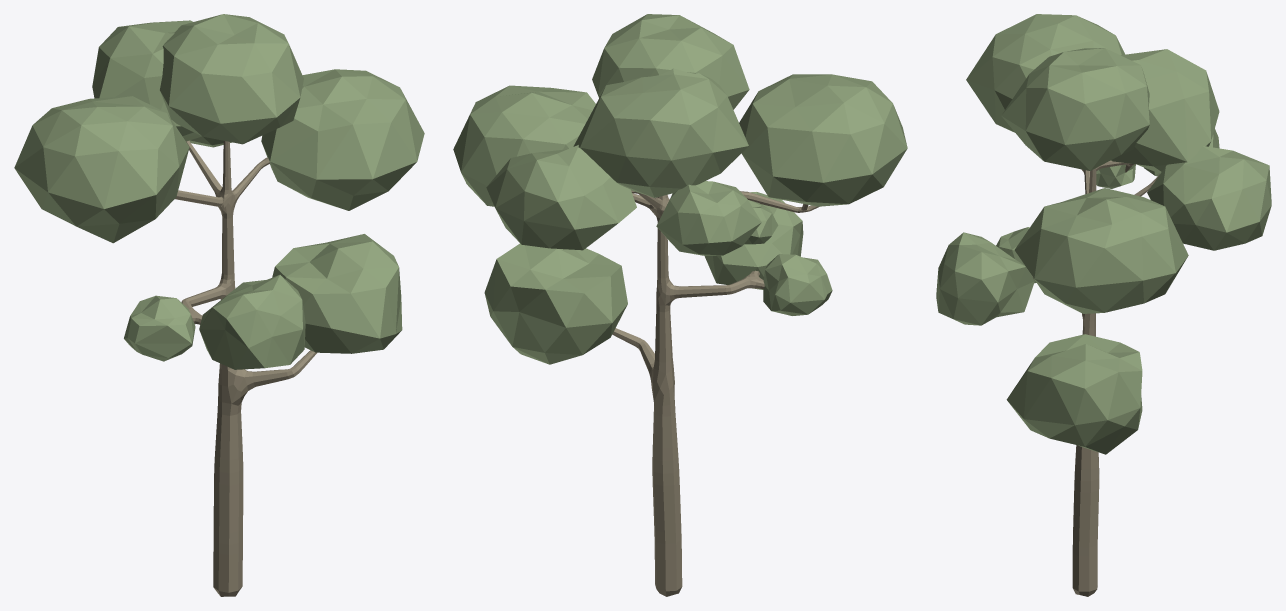
Rendered from Beech1.fbx.
3 renders of one model, left to right at view 1: azimuth 30°, elevation 25°; view 2: azimuth 150°, elevation 25°; view 3: azimuth 270°, elevation 25°, orthographic. The views are drawn at different scales.
Visible parts, largest first — view 1: Icosphere.004, Icosphere.003, Icosphere.002, Icosphere.007, Cube, Icosphere.008, Icosphere.001, Icosphere.009; view 2: Icosphere.004, Icosphere.001, Icosphere.007, Icosphere, Cube, Icosphere.003, Icosphere.002, Icosphere.005, Icosphere.009, Icosphere.008, Icosphere.006; view 3: Icosphere.003, Icosphere.002, Icosphere.007, Icosphere, Icosphere.001, Icosphere.004, Icosphere.008, Cube, Icosphere.006, Icosphere.009.
Part boxes in pixels (left/top/right/bottom): Icosphere.004: left=14, top=96, right=189, bottom=243; Icosphere.003: left=261, top=69, right=424, bottom=210; Icosphere.002: left=160, top=14, right=303, bottom=144; Icosphere.007: left=272, top=234, right=402, bottom=353; Cube: left=175, top=140, right=316, bottom=596; Icosphere.008: left=199, top=275, right=305, bottom=369; Icosphere.001: left=92, top=20, right=201, bottom=141; Icosphere.009: left=124, top=295, right=195, bottom=361; Icosphere.004: left=739, top=74, right=907, bottom=206; Icosphere.001: left=573, top=68, right=748, bottom=197; Icosphere.007: left=484, top=243, right=627, bottom=364; Icosphere: left=486, top=145, right=636, bottom=250; Cube: left=612, top=190, right=819, bottom=596; Icosphere.003: left=453, top=85, right=595, bottom=206; Icosphere.002: left=592, top=14, right=749, bottom=109; Icosphere.005: left=656, top=181, right=761, bottom=255; Icosphere.009: left=763, top=254, right=832, bottom=315; Icosphere.008: left=704, top=192, right=803, bottom=289; Icosphere.006: left=744, top=200, right=778, bottom=244; Icosphere.003: left=1014, top=188, right=1188, bottom=313; Icosphere.002: left=1001, top=48, right=1150, bottom=170; Icosphere.007: left=1006, top=334, right=1142, bottom=454; Icosphere: left=1147, top=146, right=1271, bottom=250; Icosphere.001: left=1111, top=49, right=1219, bottom=173; Icosphere.004: left=966, top=14, right=1125, bottom=132; Icosphere.008: left=936, top=232, right=1034, bottom=325; Cube: left=1032, top=160, right=1159, bottom=596; Icosphere.006: left=1096, top=164, right=1135, bottom=188; Icosphere.009: left=996, top=227, right=1036, bottom=283.
Size of the model in its own units: 2382 by 3220 by 1826.
